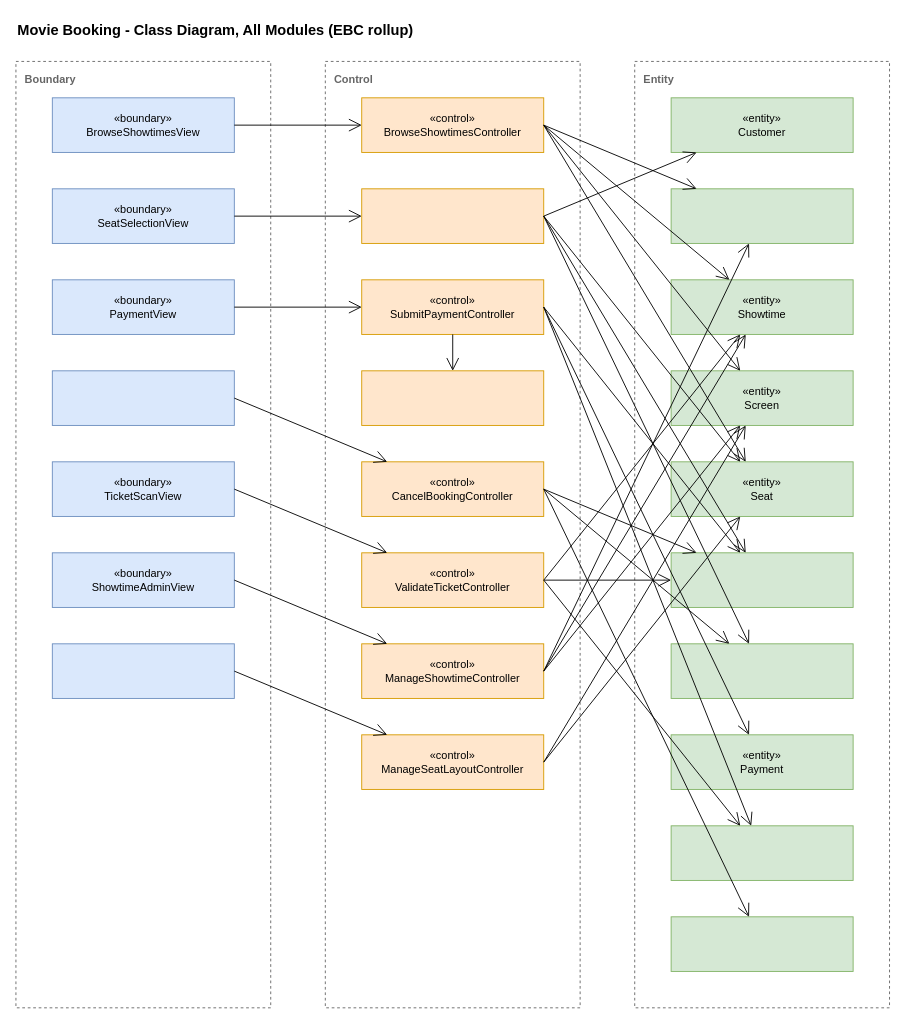
The diagram is 905 pixels wide and 1024 high, and some of its shapes have lost their labels. Here are the shapes that lost their labels. From the top down, the centre of each, then its label:
(452,215): «control» SelectSeatsController
(761,215): «entity» Movie
(142,397): «boundary» CancelBookingView
(452,397): «control» PaymentGatewayAdapter
(761,579): «entity» Booking
(142,670): «boundary» SeatLayoutAdminView
(761,670): «entity» SeatReservation
(761,852): «entity» ETicket
(761,943): «entity» Refund
